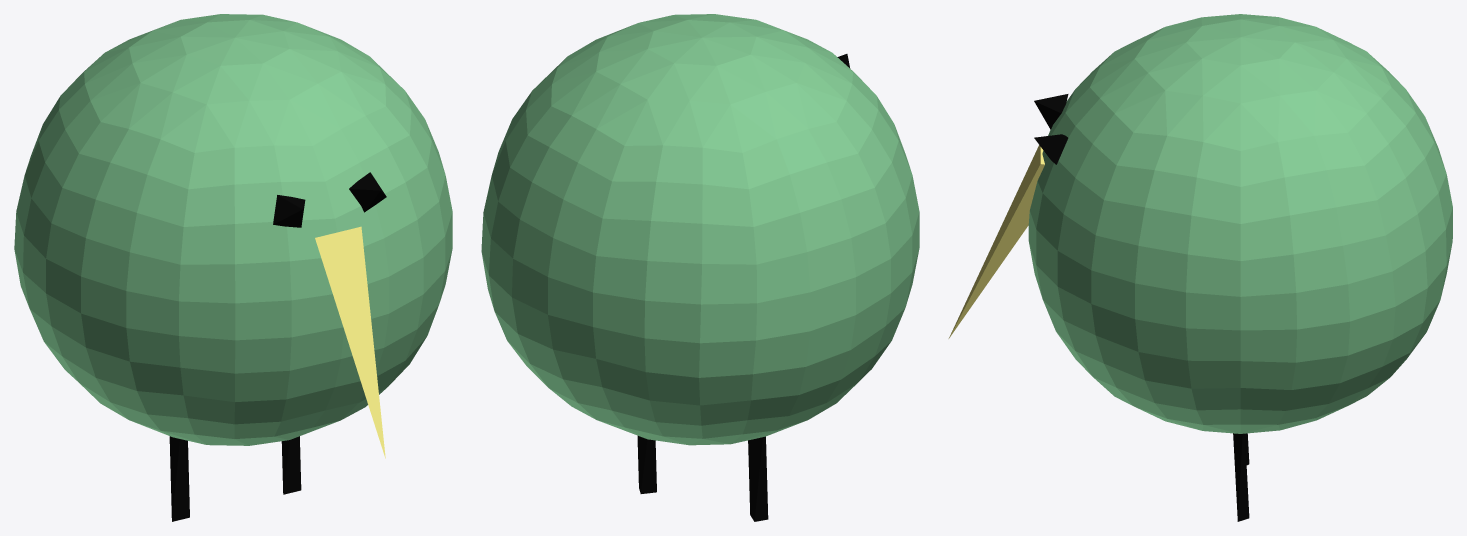
Rendered from kiwi.gltf.
3 renders of one model, left to right at view 1: azimuth 30°, elevation 25°; view 2: azimuth 150°, elevation 25°; view 3: azimuth 270°, elevation 25°, orthographic. The views are drawn at different scales.
Visible parts, largest first — view 1: kiwi; view 2: kiwi; view 3: kiwi.
Boxes of the visible parts, box(x1,y1,x2,y2) form: kiwi: box(14, 14, 452, 521); kiwi: box(481, 14, 919, 521); kiwi: box(948, 14, 1452, 521).
Bounding box in the file's own units: 146 × 173 × 174.
